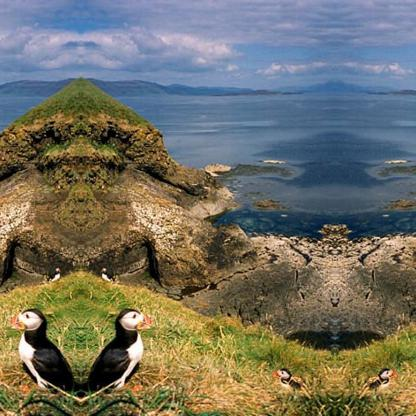Bird: (81, 310, 151, 404), (9, 310, 79, 404), (272, 369, 304, 395), (365, 369, 397, 395), (100, 266, 108, 284), (52, 266, 60, 284)
